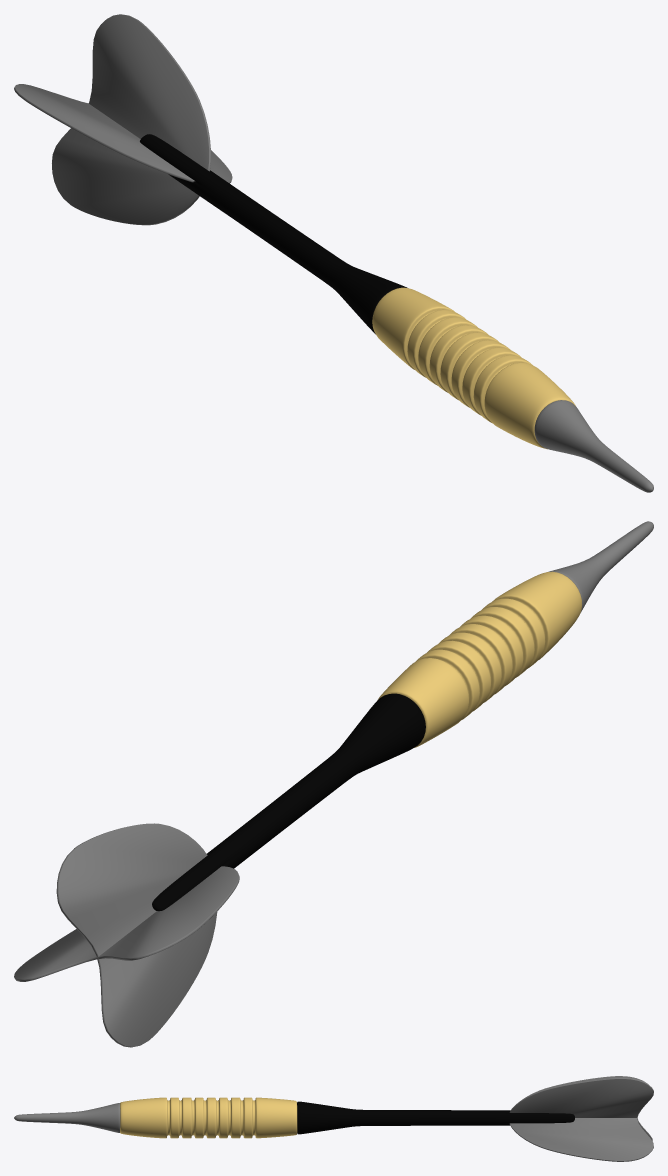
File: DartTColored.fbx
The picture shows the model from 3 angles, top to bottom: view 1: azimuth 30°, elevation 25°; view 2: azimuth 150°, elevation 25°; view 3: azimuth 270°, elevation 25°; orthographic projection. The views are drawn at different scales.
Visible parts, largest first — view 1: dart_rzutka_obj2:SelectionNoName_2, dart_rzutka_obj2:Selection_1Cylinder_5, dart_rzutka_obj2:Selection_1Cylinder_7, dart_rzutka_obj2:SelectionNoName_1, dart_rzutka_obj2:Selection_1Cylinder_8; view 2: dart_rzutka_obj2:SelectionNoName_2, dart_rzutka_obj2:Selection_1Cylinder_5, dart_rzutka_obj2:Selection_1Cylinder_7, dart_rzutka_obj2:SelectionNoName_1, dart_rzutka_obj2:Selection_1Cylinder_8; view 3: dart_rzutka_obj2:Selection_1Cylinder_5, dart_rzutka_obj2:SelectionNoName_1, dart_rzutka_obj2:Selection_1Cylinder_7, dart_rzutka_obj2:SelectionNoName_2, dart_rzutka_obj2:Selection_1Cylinder_8.
Part boxes in pixels (x1,y1,x2,y2): dart_rzutka_obj2:SelectionNoName_2: (52,14,210,225); dart_rzutka_obj2:Selection_1Cylinder_5: (372,287,575,449); dart_rzutka_obj2:Selection_1Cylinder_7: (140,134,407,334); dart_rzutka_obj2:SelectionNoName_1: (14,84,232,183); dart_rzutka_obj2:Selection_1Cylinder_8: (534,400,653,492); dart_rzutka_obj2:SelectionNoName_2: (56,823,217,1047); dart_rzutka_obj2:Selection_1Cylinder_5: (377,571,582,747); dart_rzutka_obj2:Selection_1Cylinder_7: (152,693,425,911); dart_rzutka_obj2:SelectionNoName_1: (14,866,239,981); dart_rzutka_obj2:Selection_1Cylinder_8: (548,521,653,612); dart_rzutka_obj2:Selection_1Cylinder_5: (120,1097,297,1138); dart_rzutka_obj2:SelectionNoName_1: (509,1076,653,1161); dart_rzutka_obj2:Selection_1Cylinder_7: (297,1101,574,1134); dart_rzutka_obj2:SelectionNoName_2: (509,1078,653,1140); dart_rzutka_obj2:Selection_1Cylinder_8: (14,1103,120,1132).
Size of the model in its own units: 0.5637 by 0.5638 by 3.38.
